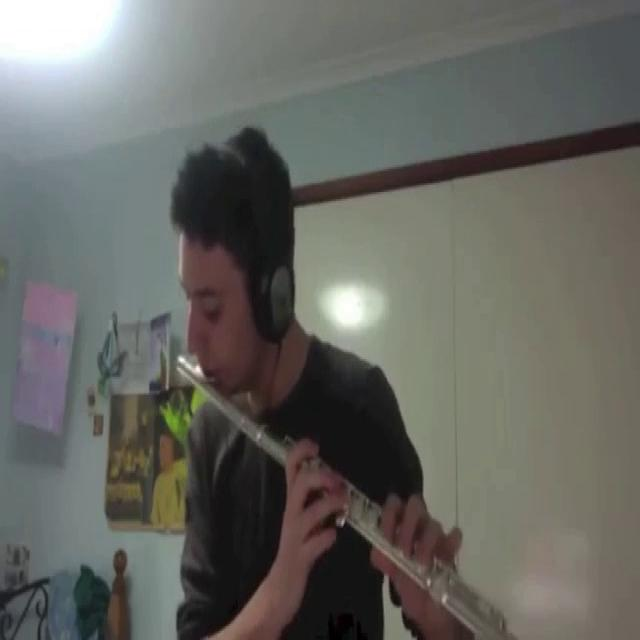Flute: (173, 334, 518, 640)
